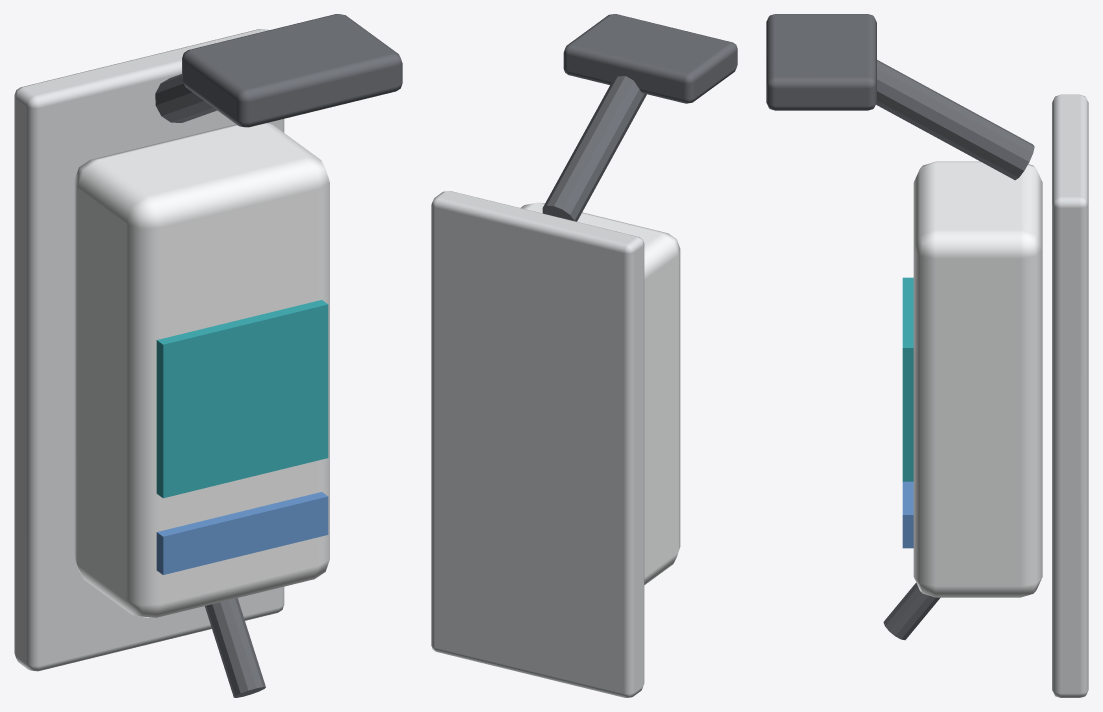
The model's file is Wall Hand Gel (Dental Practice and Surgery).glb.
The picture shows the model from 3 angles, left to right: view 1: azimuth 30°, elevation 25°; view 2: azimuth 150°, elevation 25°; view 3: azimuth 270°, elevation 25°; orthographic projection. The views are drawn at different scales.
Visible parts, largest first — view 1: wall-hand-gel; view 2: wall-hand-gel; view 3: wall-hand-gel.
Boxes of the visible parts, bbox=[...] form: wall-hand-gel: bbox=[14, 14, 402, 697]; wall-hand-gel: bbox=[431, 14, 737, 697]; wall-hand-gel: bbox=[766, 14, 1088, 697].
Size of the model in its own units: 0.14 by 0.36 by 0.175.
